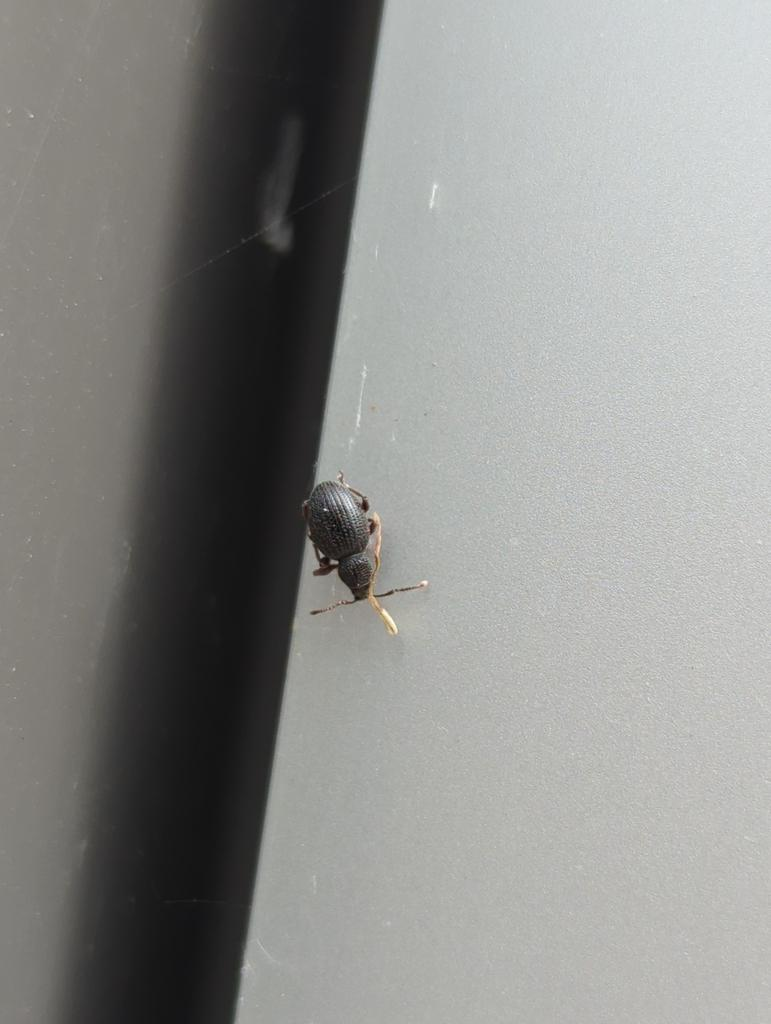weevils: (240, 440, 470, 679)
